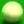white: (0, 0, 24, 24)
